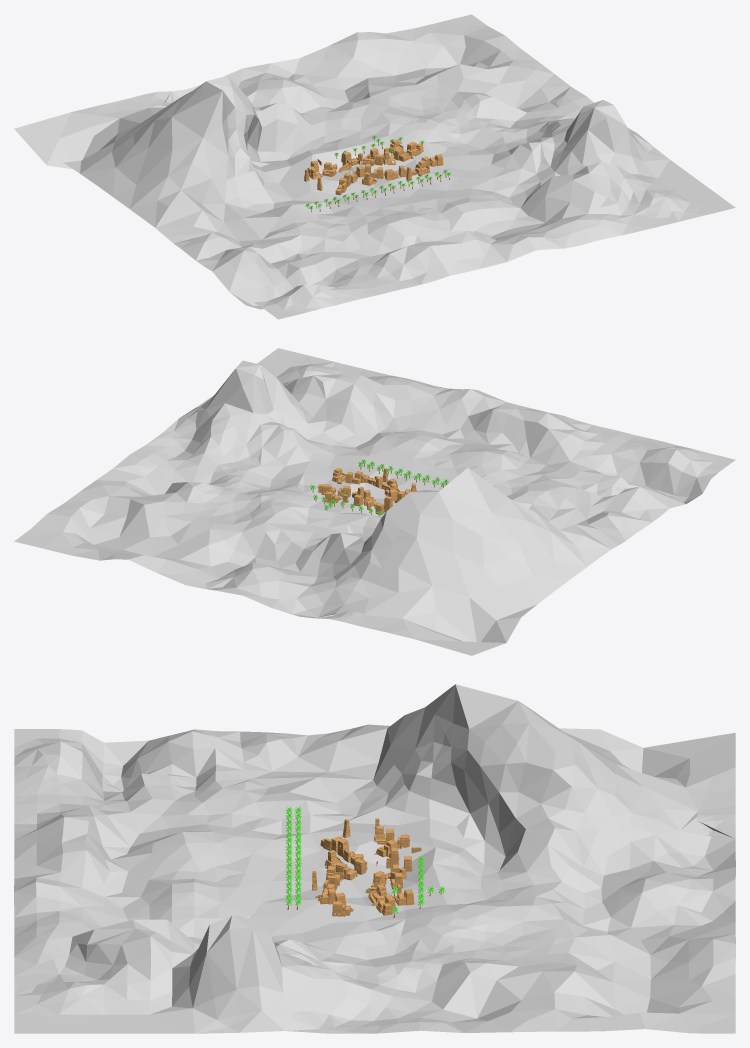
Rendered from 古代集市6.glb.
3 renders of one model, top to bottom at view 1: azimuth 30°, elevation 25°; view 2: azimuth 150°, elevation 25°; view 3: azimuth 270°, elevation 25°, orthographic. The views are drawn at different scales.
Visible parts, largest first — view 1: 平面; view 2: 平面; view 3: 平面.
Boxes of the visible parts, x1,y1,x2,y2 form: 平面: (14, 14, 735, 319); 平面: (14, 348, 735, 655); 平面: (14, 684, 735, 1033).
Size of the model in its own units: 501 by 115 by 501.
